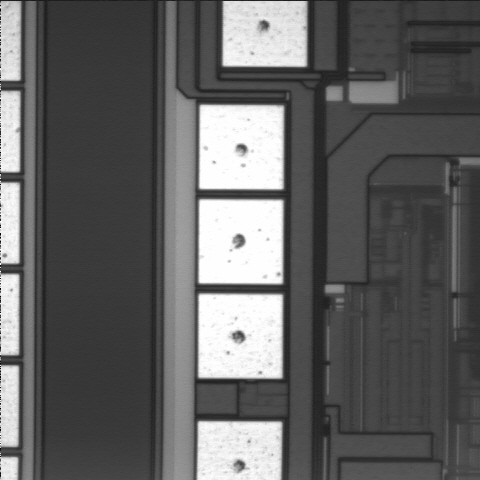pad: (198, 199, 283, 284), (199, 105, 284, 189), (198, 294, 283, 378)
